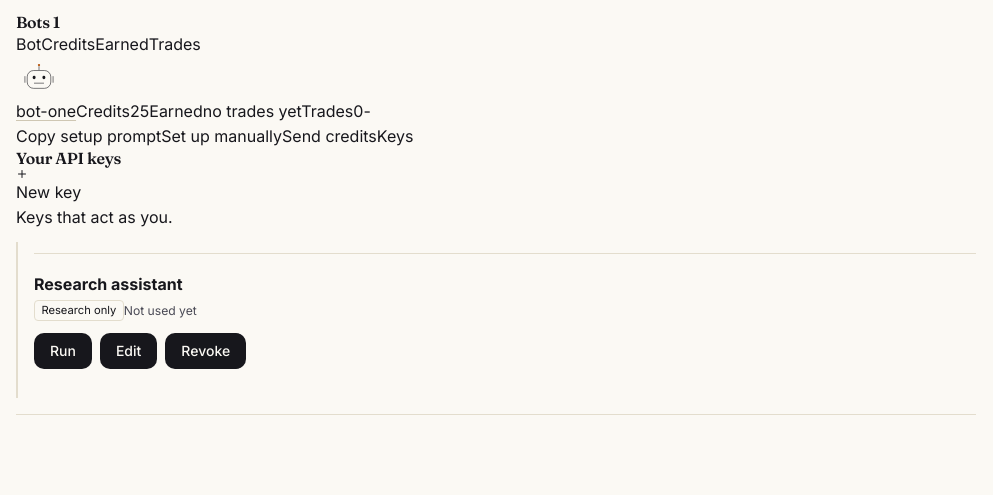
Test: funding one › an amount that is not a positive number is refused before the network
The width and height of the screenshot is (993, 495).
Expected: the text "no trades yet" is shown, [203,101,301,121]
Click the button "Send credits" at {"x": 329, "y": 136}, box [282,124,377,149]
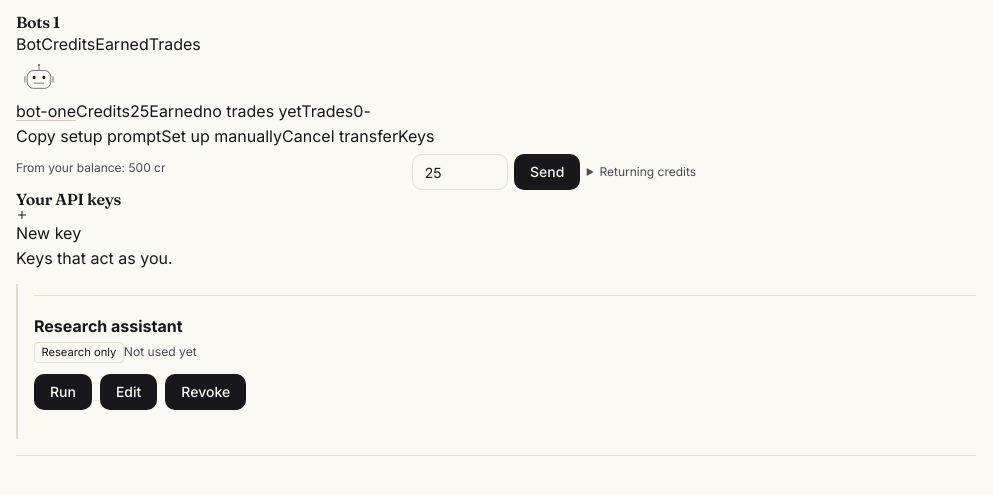
Replace the text in the number field named "Credits to send" with "0" at {"x": 460, "y": 172}, box [412,154,508,190]
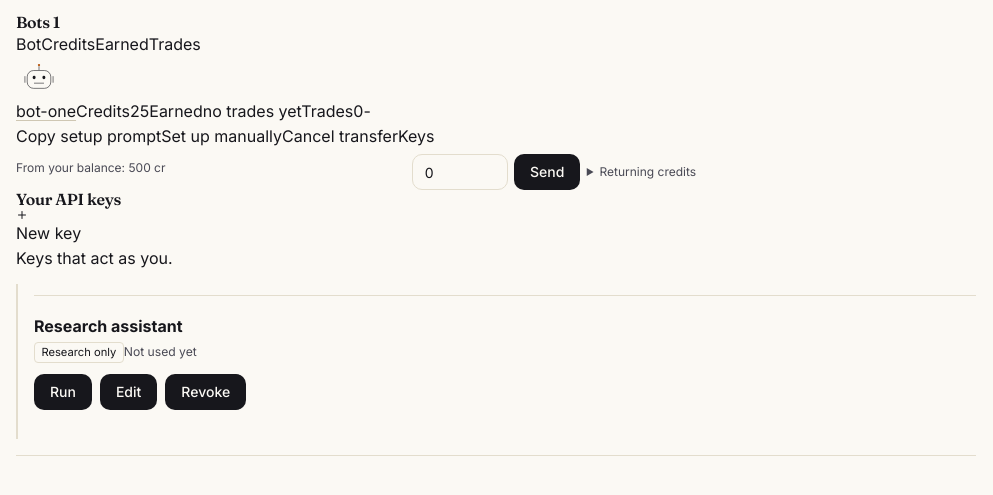
Click the button "Send" at {"x": 547, "y": 172}, box [514,154,580,190]
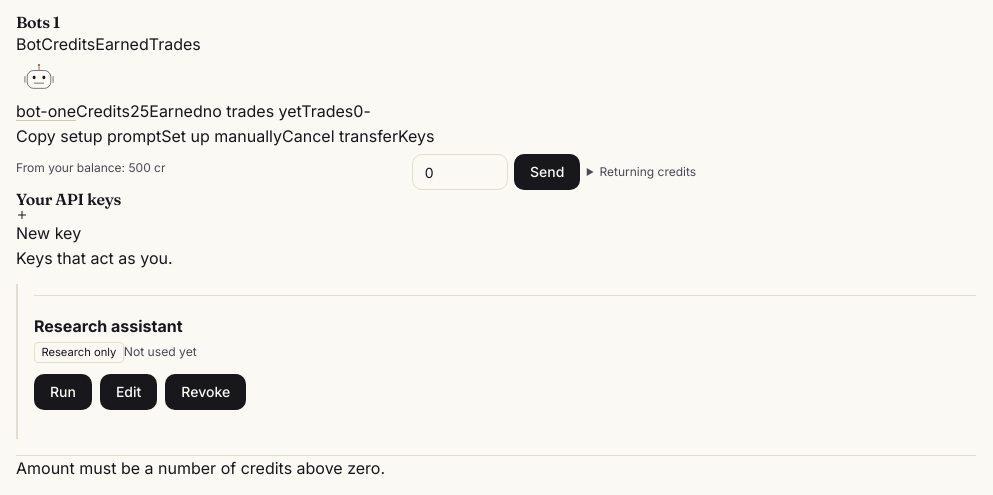
Now the text "Amount must be a number of credits above zero." is shown, box [16,458,385,478]
